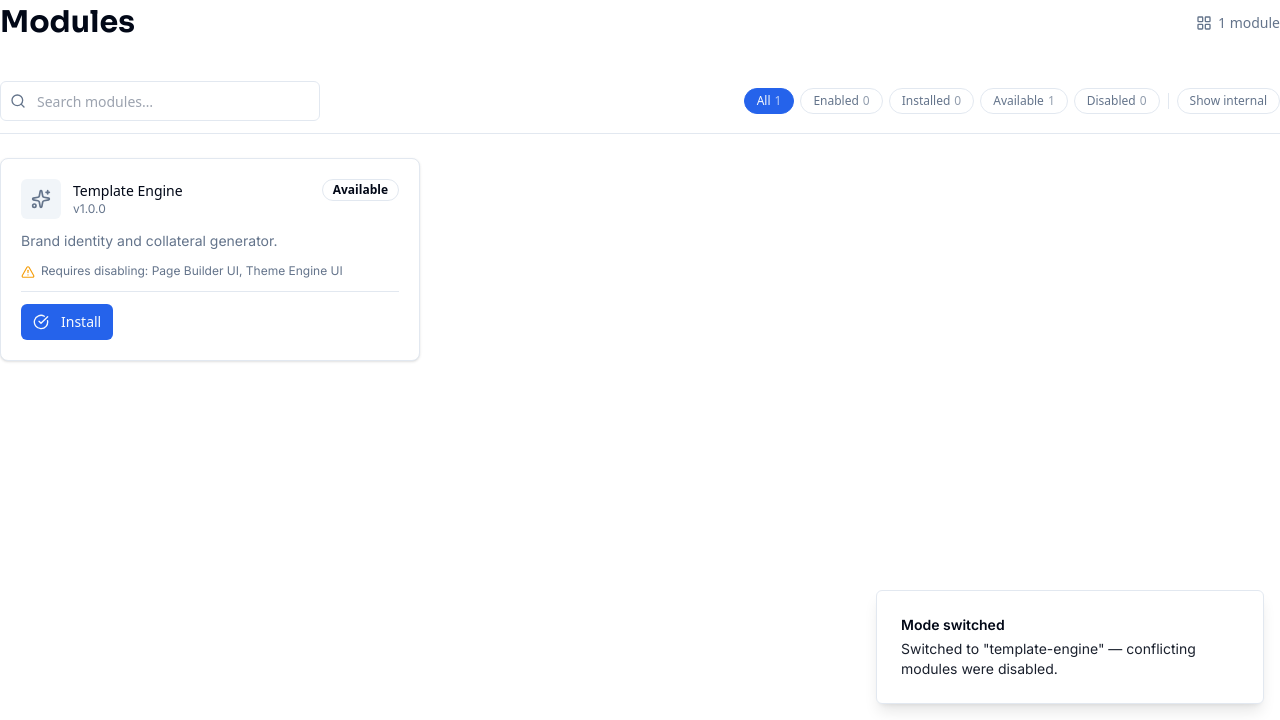
Test: ModulesPage — switch dialog › sends nothing when Cancel is clicked in the switch dialog
Expected: the button "Installed0" is shown, [889,88,974,114]
Click the button "Install" at coordinates (67, 322), box [21,304,113,340]
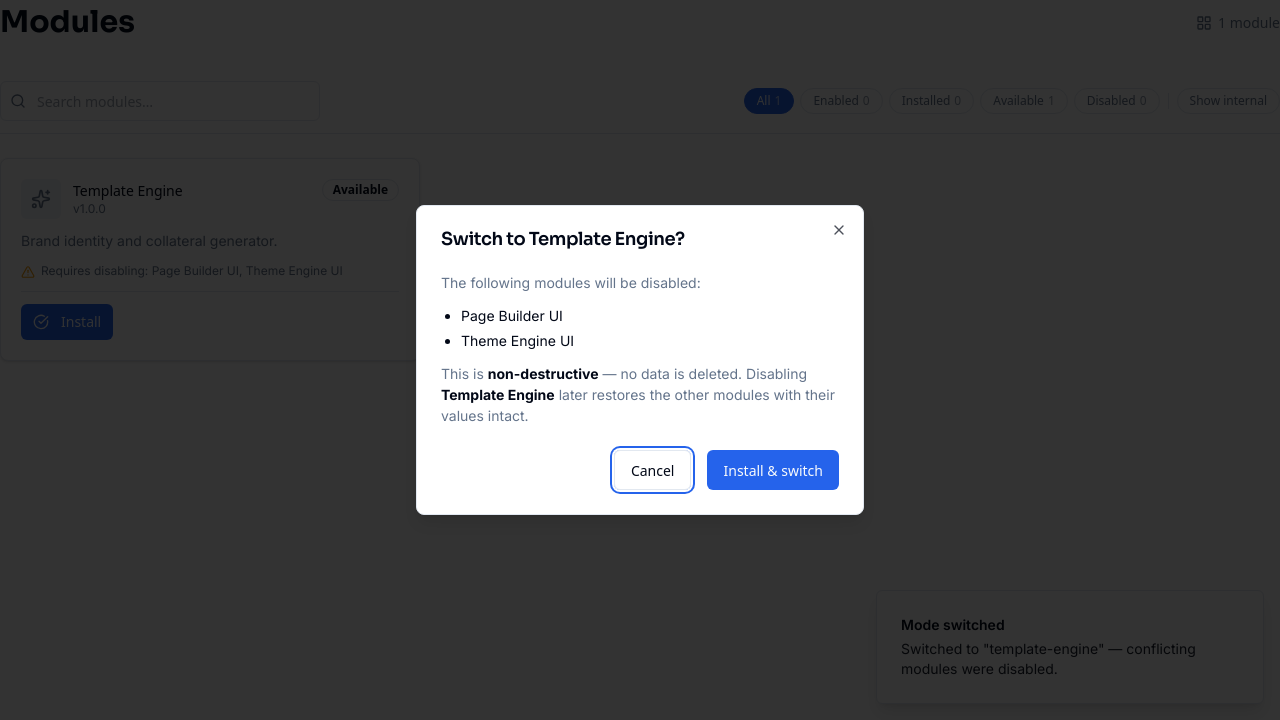
Expected: the dialog is shown, [416,205,864,515]
Click the button "Cancel" at coordinates (653, 470), box [614,450,692,490]
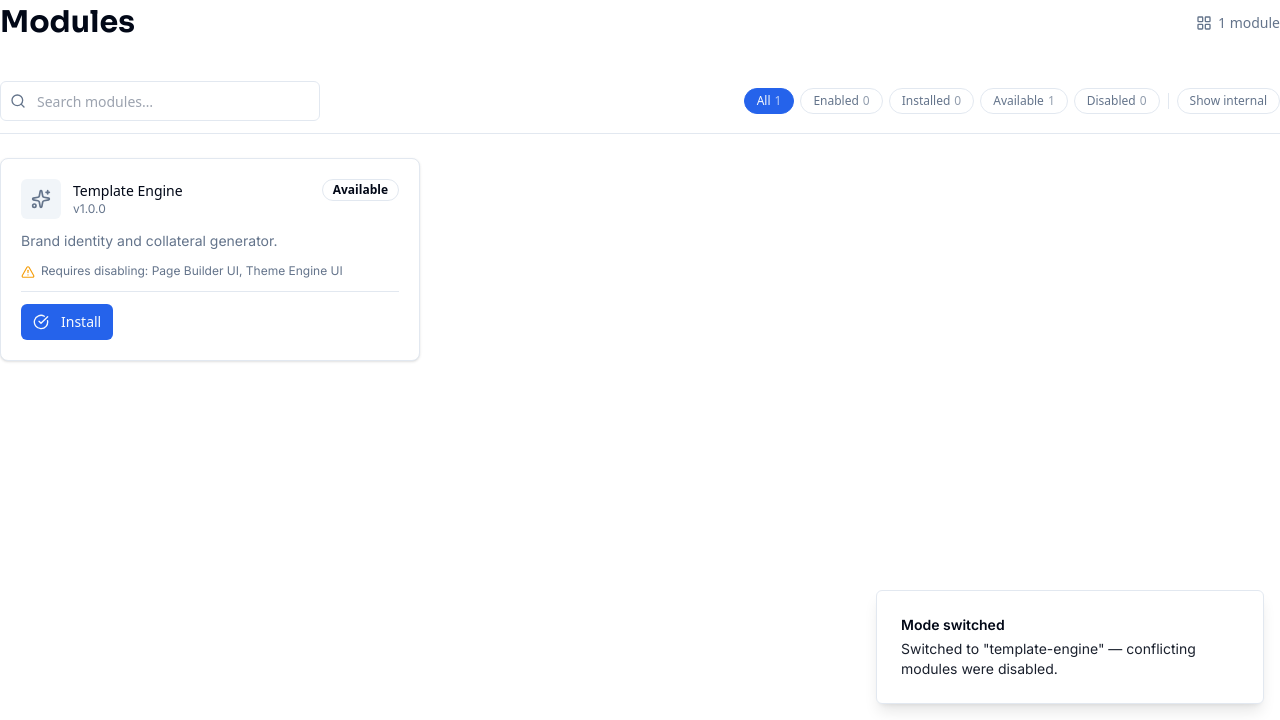
Expected: the dialog is gone
